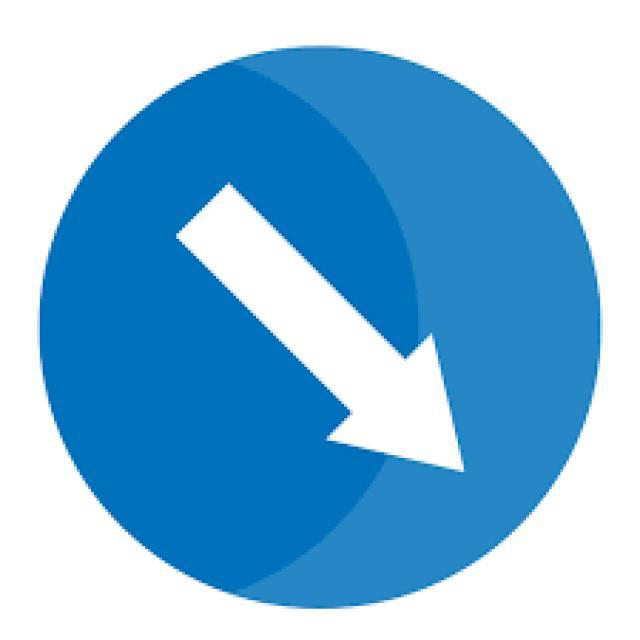compulsary keep right: (35, 41, 597, 605)
